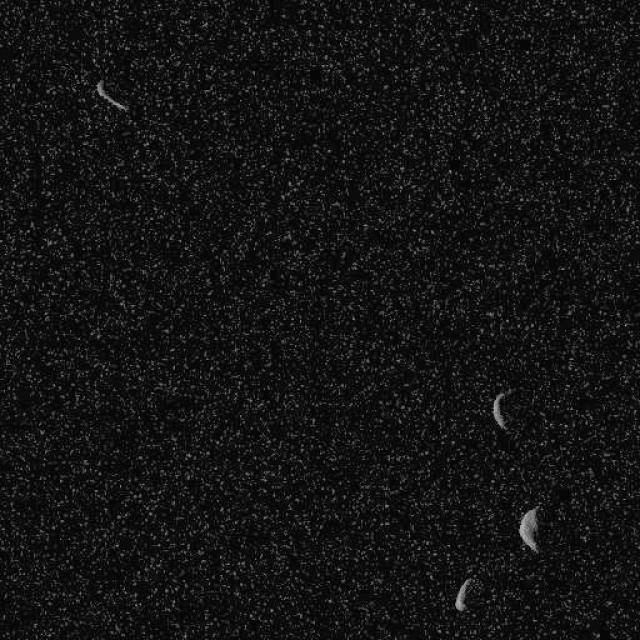D2: (94, 78, 128, 114), (518, 505, 540, 554), (491, 390, 510, 430), (454, 576, 474, 612)
